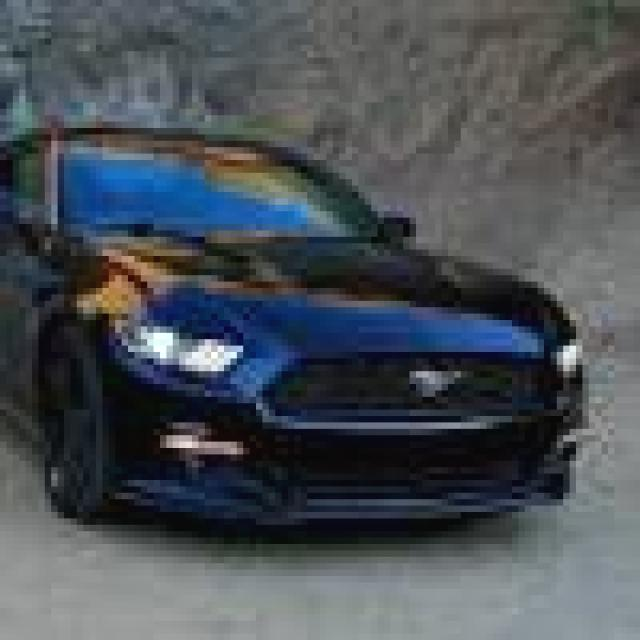SED: (0, 121, 586, 543)
